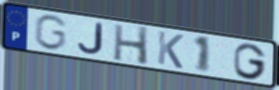1: (191, 35, 213, 73)
G: (32, 14, 69, 52), (233, 42, 269, 81)
H: (112, 23, 151, 67)
J: (76, 21, 105, 56)
K: (155, 29, 186, 71)
